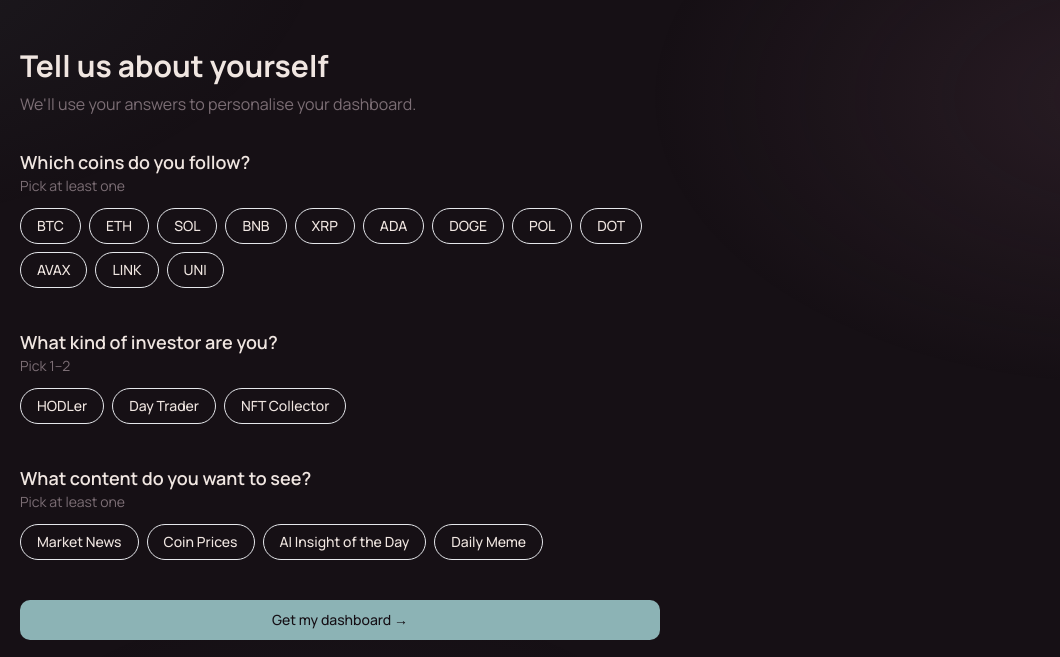
Test: OnboardingPage form validation › disables extra investor type options once 2 are selected
Expected: the button "NFT Collector" is enabled, [224,388,346,424]
Click the button "HODLer" at (62, 406), box [20,388,104,424]
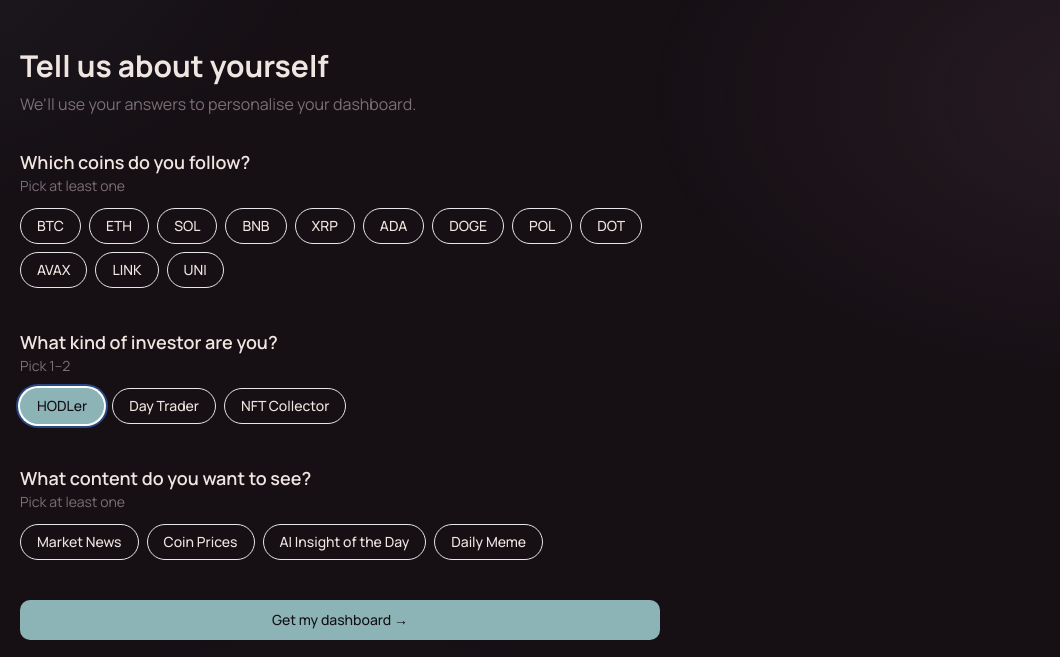
Click the button "Day Trader" at (164, 406), box [112,388,216,424]
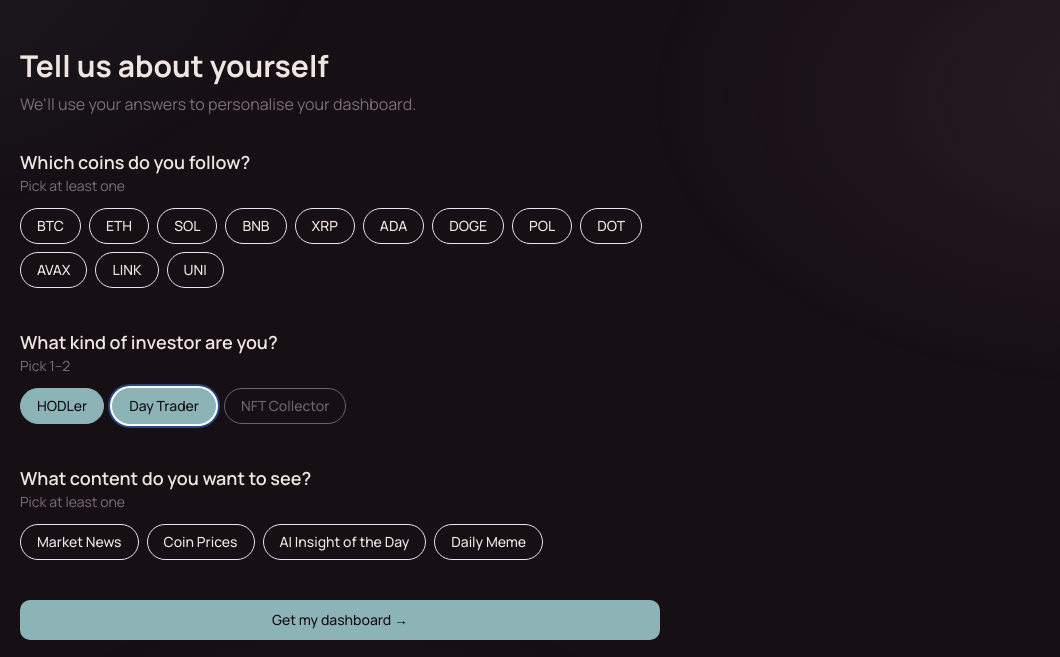
Result: the button "NFT Collector" is disabled at [224,388,346,424]
